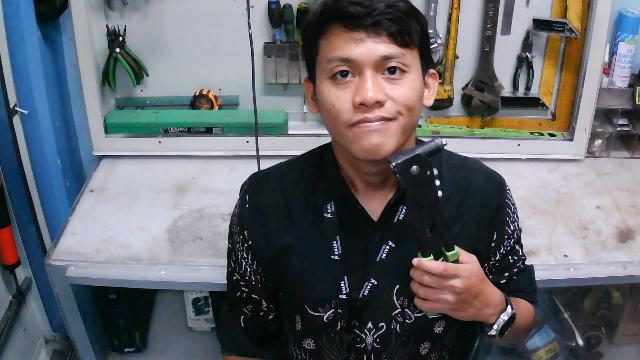tang_rivet: (381, 137, 461, 317)
